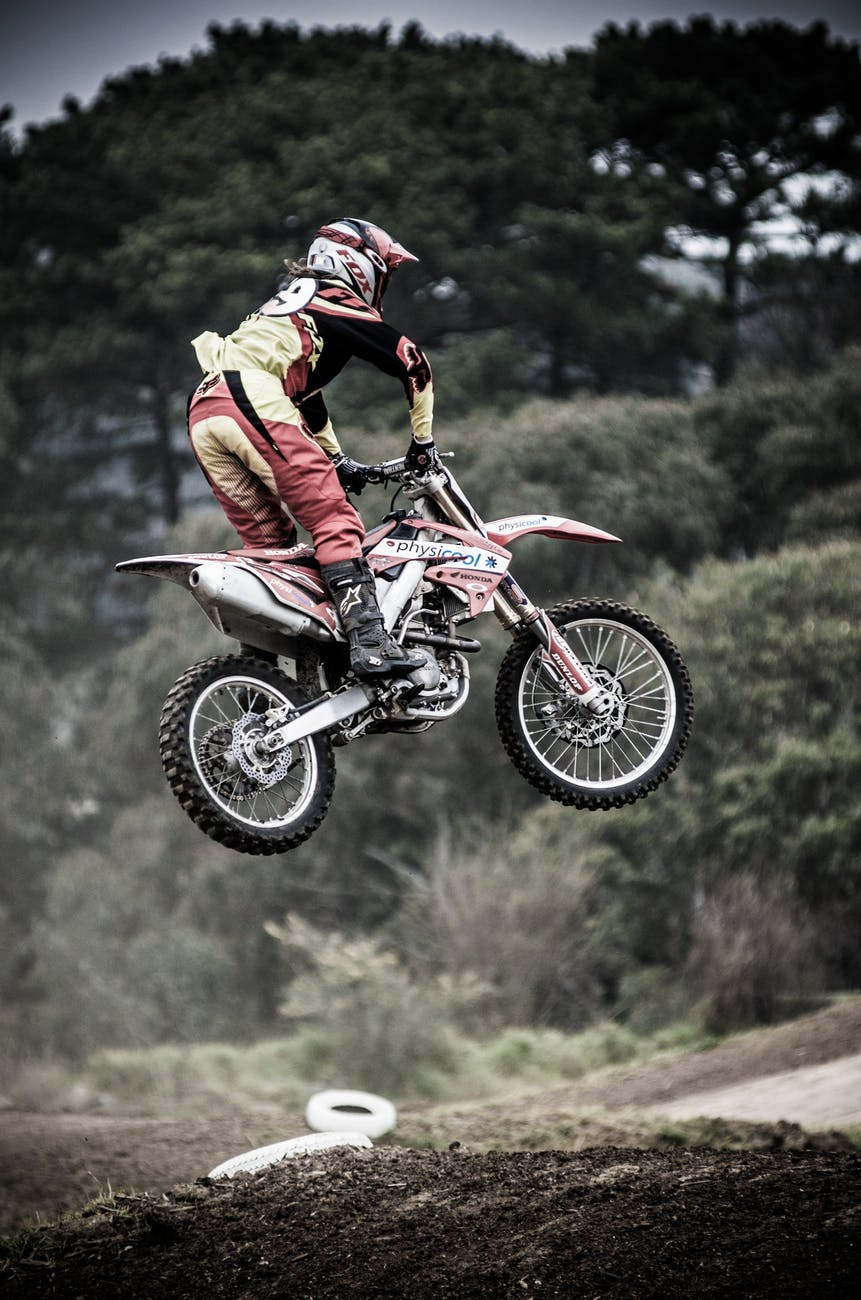helmet: (301, 213, 411, 303)
